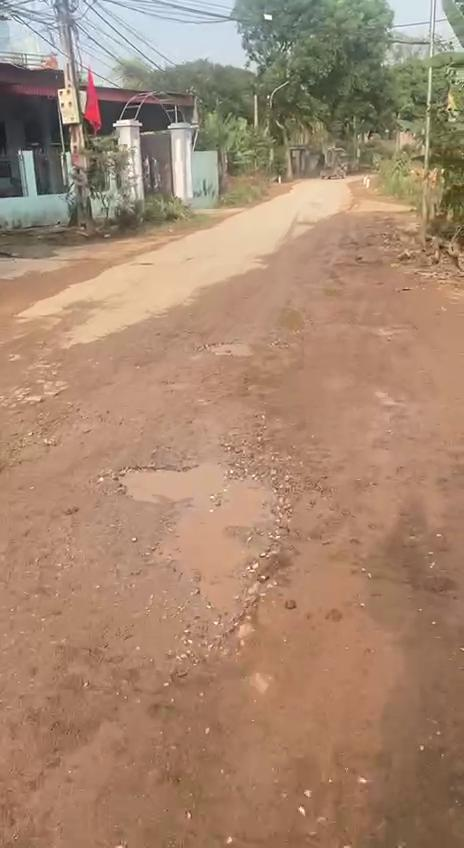pothole: (112, 464, 290, 630)
